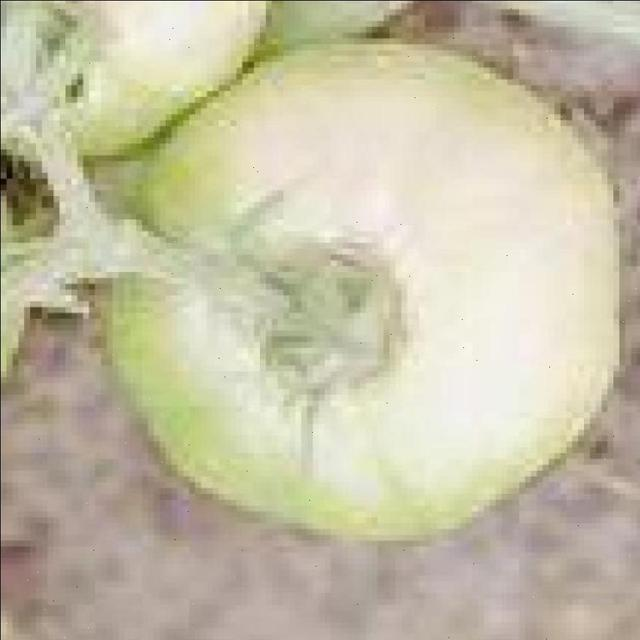Sunscald Fruit: (104, 37, 255, 253)
